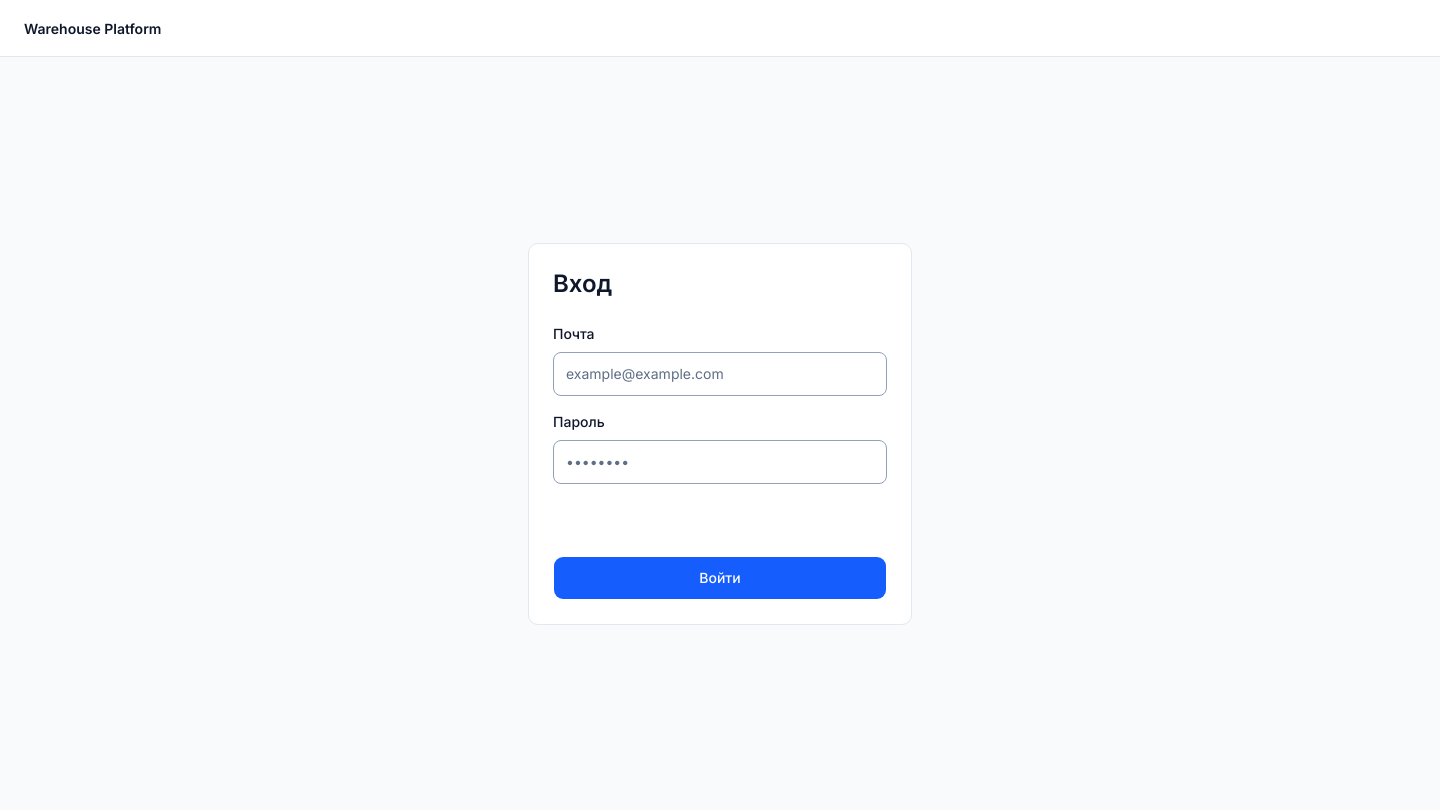
it: LoginPage › убирает ошибку почты после ввода корректного адреса
Click the button "Войти" at (720, 578), box [553,556,887,600]
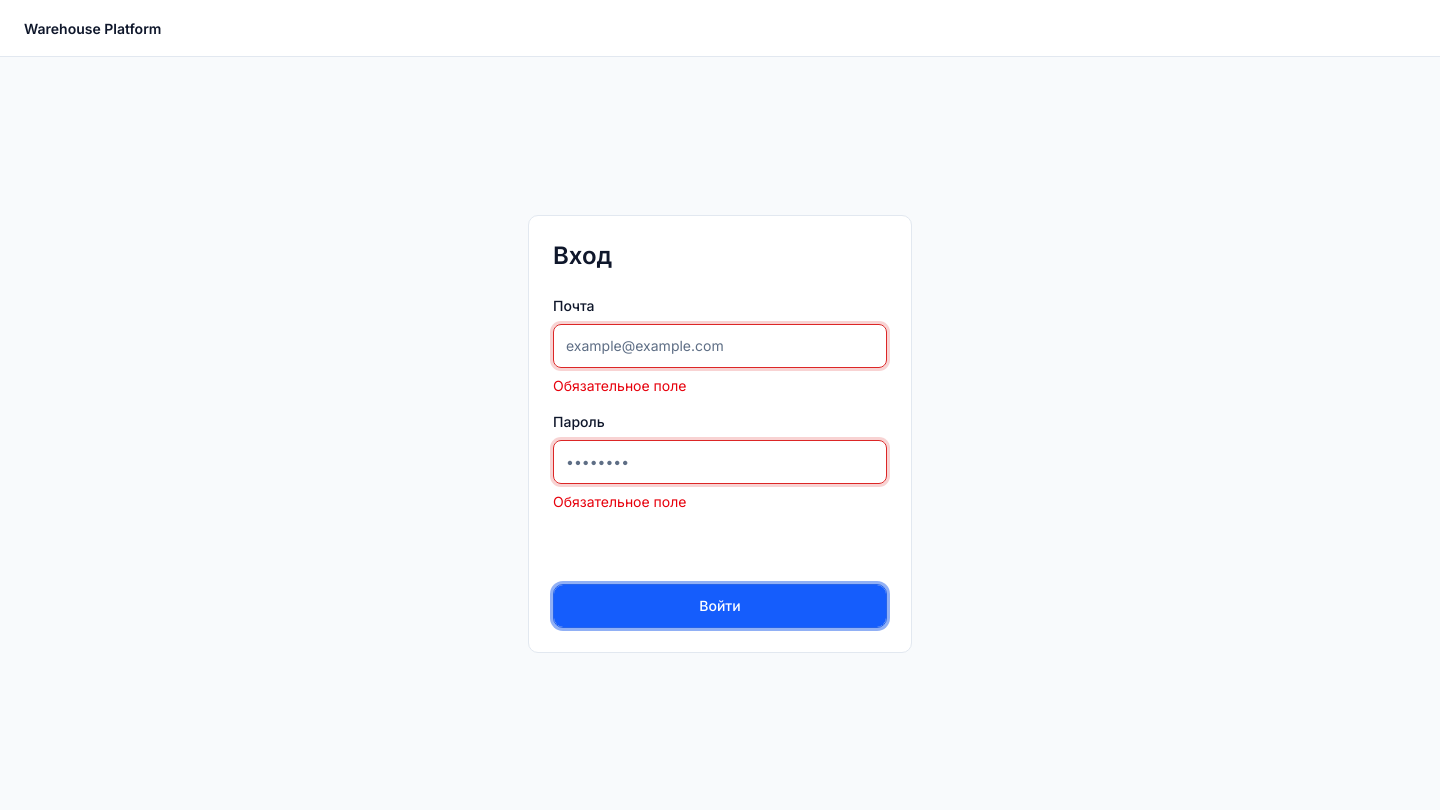
Expected: the text "Обязательное поле" is shown 2 times, [553,376,686,394]; [553,492,686,510]
Type "user@example.com" into the field labelled "Почта" at (720, 346), box [553,324,887,368]
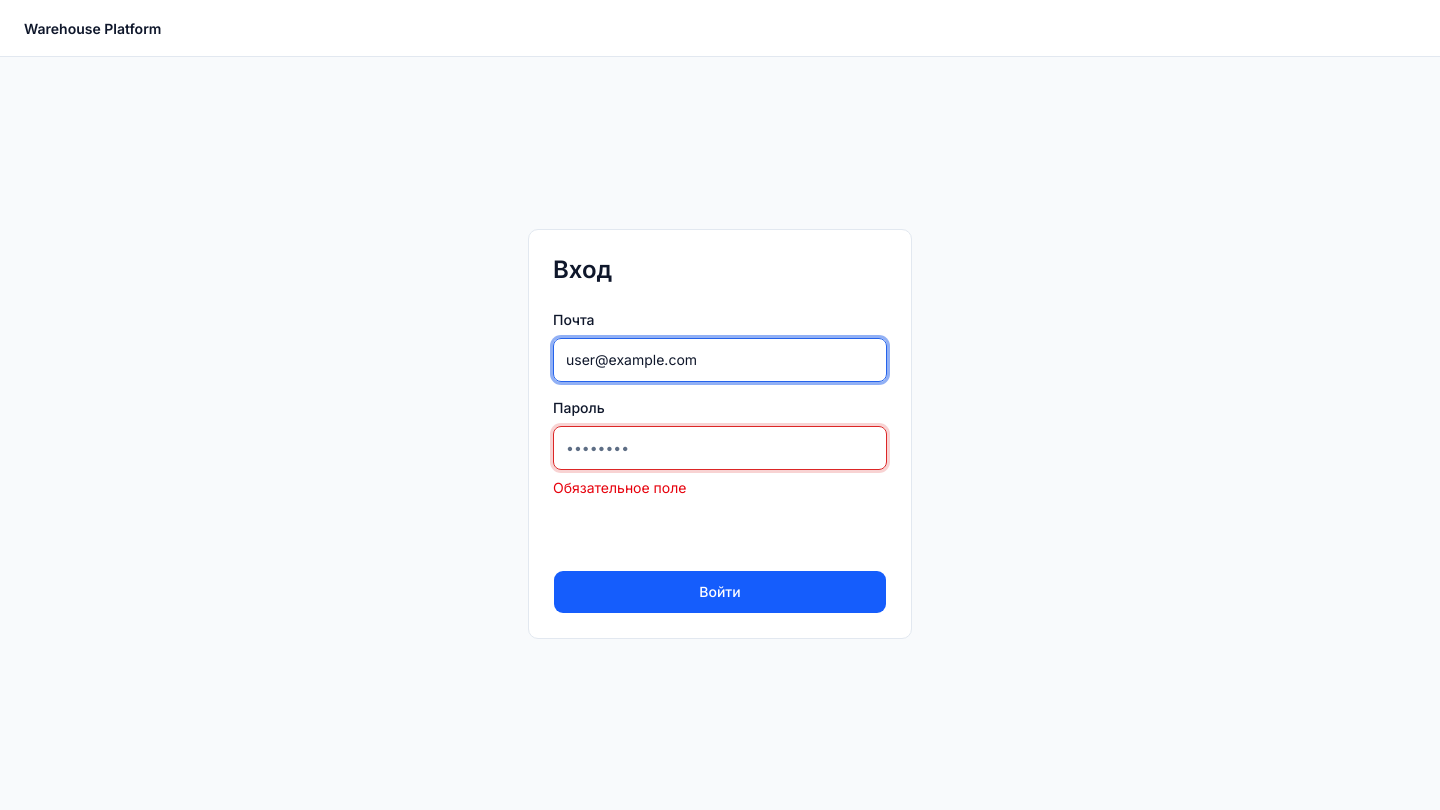
Expected: the field labelled "Почта" does not have attribute aria-invalid="true", [553,338,887,382]
Expected: the password field labelled "Пароль" is marked as invalid, [553,426,887,470]
